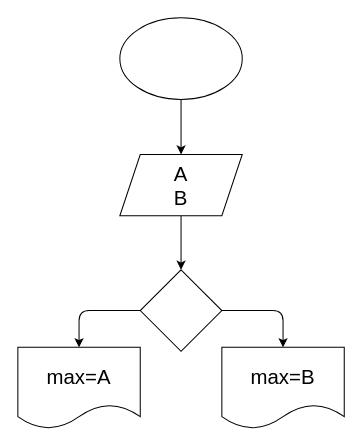
The diagram is 362 pixels wide and 447 high, and some of its shapes have lost their labels. Each missing label, with the centre of its shape:
"A>B" goes at (180,310).
"Start" goes at (180,58).
